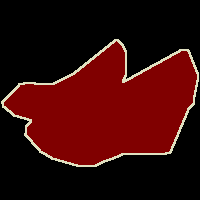shoe: (2, 39, 198, 166)
